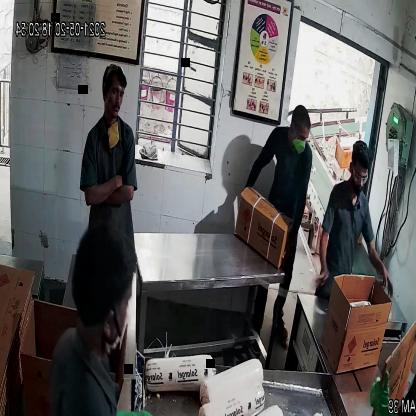goggles: (351, 168, 371, 186)
no_goggles: (106, 83, 127, 102)
